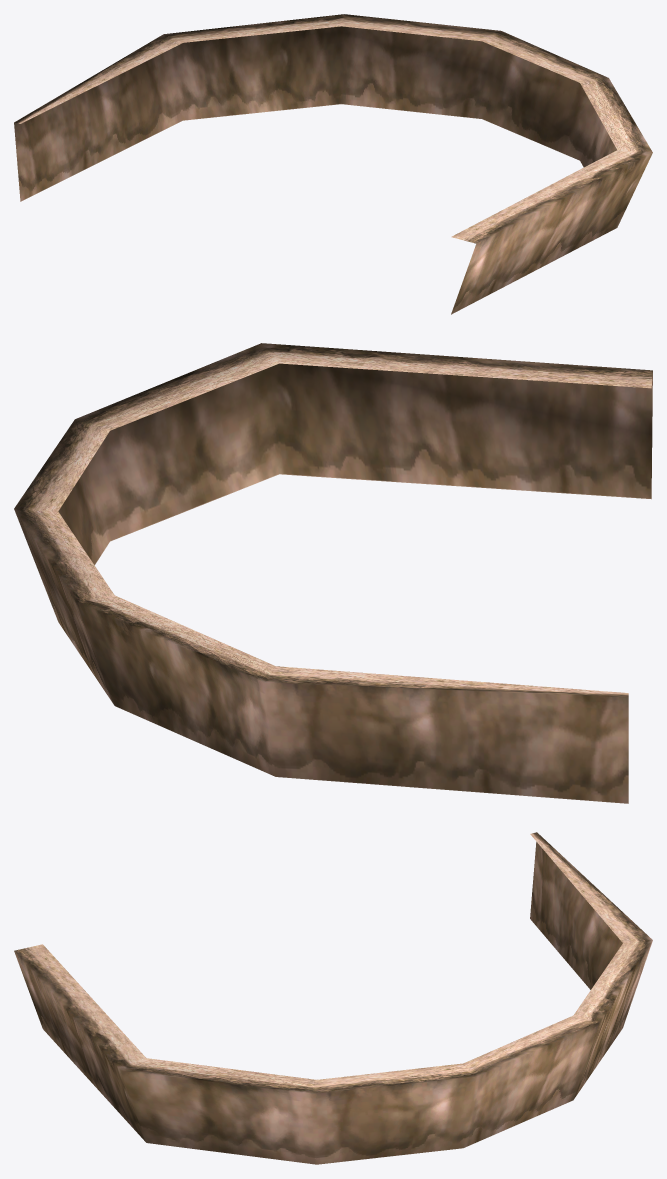
The model's file is OVERHILL_A_01_LINE35.fbx.
3 renders of one model, top to bottom at view 1: azimuth 30°, elevation 25°; view 2: azimuth 150°, elevation 25°; view 3: azimuth 270°, elevation 25°, orthographic. The views are drawn at different scales.
Parts seen in each view (by area): view 1: OVERHILL_A_01_LINE35; view 2: OVERHILL_A_01_LINE35; view 3: OVERHILL_A_01_LINE35.
Boxes of the visible parts, left/top/right/bottom form: OVERHILL_A_01_LINE35: left=14, top=14, right=652, bottom=314; OVERHILL_A_01_LINE35: left=14, top=343, right=652, bottom=803; OVERHILL_A_01_LINE35: left=14, top=832, right=652, bottom=1164.
Bounding box in the file's own units: 25803 × 3900 × 26611.
1 material, 1 textured.
